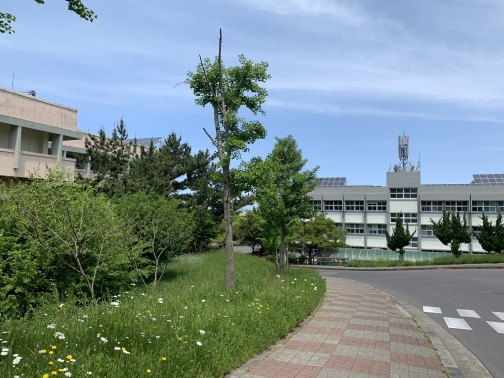College Of Education: (1, 87, 165, 225)
